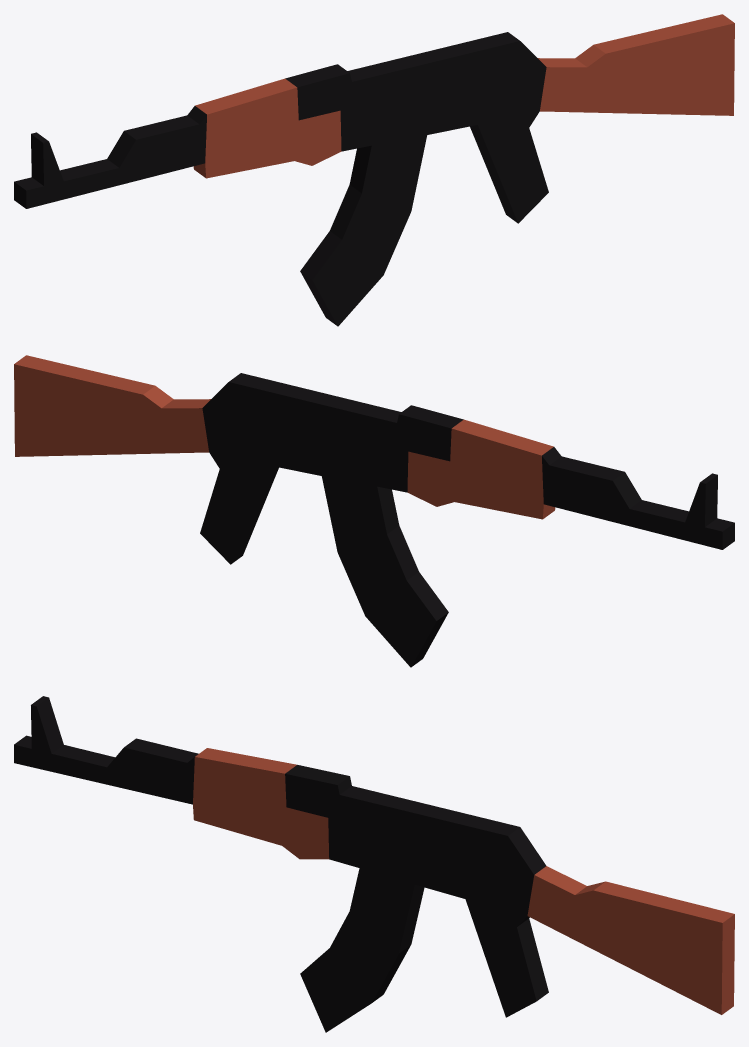
The picture shows the model from 3 angles, top to bottom: view 1: azimuth 30°, elevation 25°; view 2: azimuth 150°, elevation 25°; view 3: azimuth 330°, elevation 25°; orthographic projection.
Parts seen in each view (by area): view 1: Line001; view 2: Line001; view 3: Line001.
Boxes of the visible parts, <box> form: Line001: <box>14,14,734,326</box>; Line001: <box>14,355,734,667</box>; Line001: <box>14,696,734,1032</box>.
Size of the model in its own units: 382 by 132 by 11.49.
